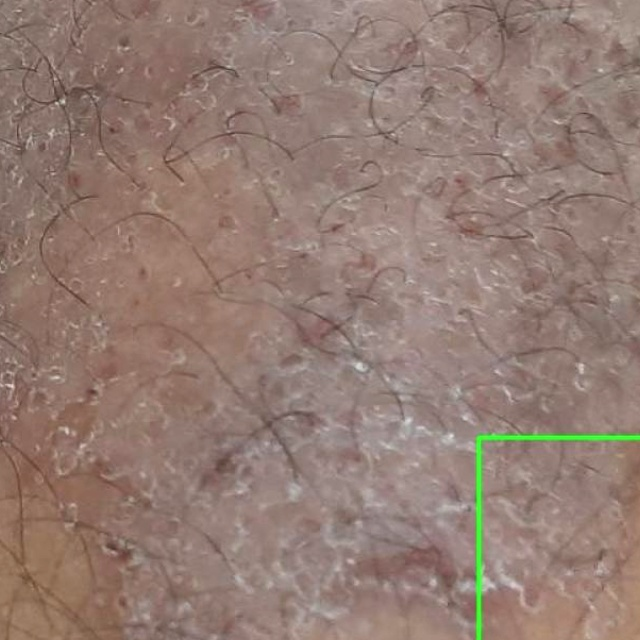Eczema: (479, 437, 639, 639)
